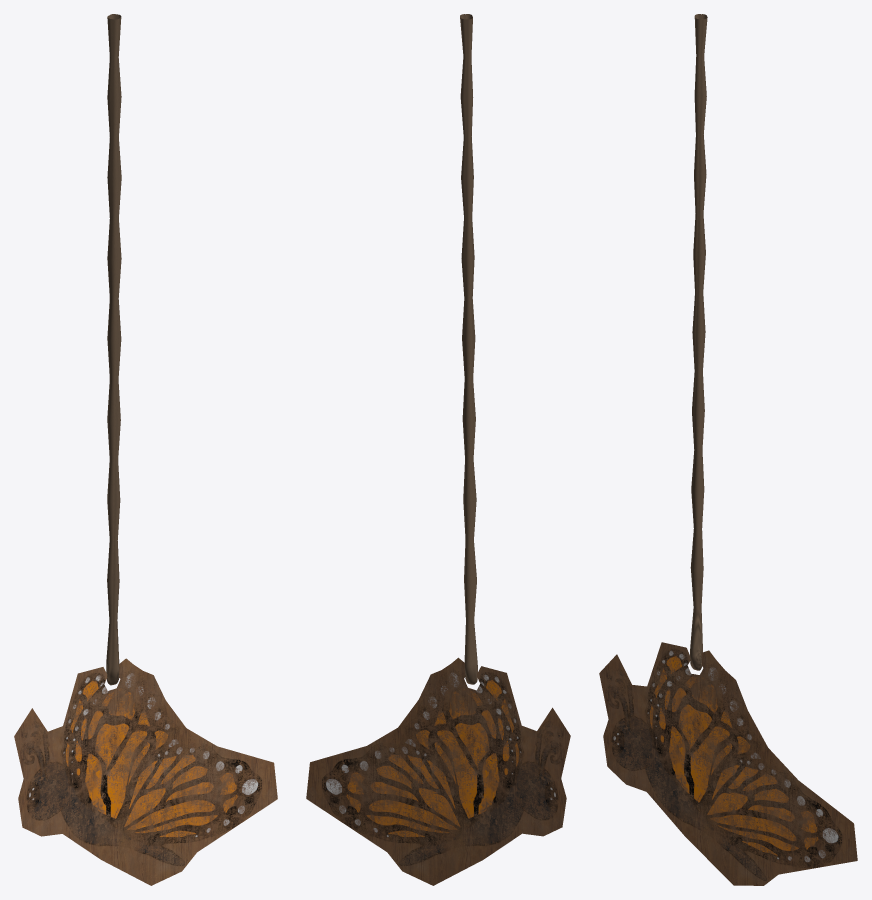
Rendered from MariposaConCuerda.fbx.
The picture shows the model from 3 angles, left to right: view 1: azimuth 30°, elevation 25°; view 2: azimuth 150°, elevation 25°; view 3: azimuth 330°, elevation 25°; orthographic projection. The views are drawn at different scales.
Parts seen in each view (by area): view 1: Mariposa, Circle; view 2: Mariposa, Circle; view 3: Mariposa, Circle.
Boxes of the visible parts, x1=… form: Mariposa: x1=14, y1=658, x2=277, y2=885; Circle: x1=106, y1=14, x2=121, y2=685; Mariposa: x1=306, y1=657, x2=570, y2=885; Circle: x1=460, y1=14, x2=477, y2=684; Mariposa: x1=599, y1=642, x2=857, y2=885; Circle: x1=690, y1=14, x2=707, y2=670.
Size of the model in its own units: 134 by 424 by 7.75.
Materials: 2 (2 with a texture image).
